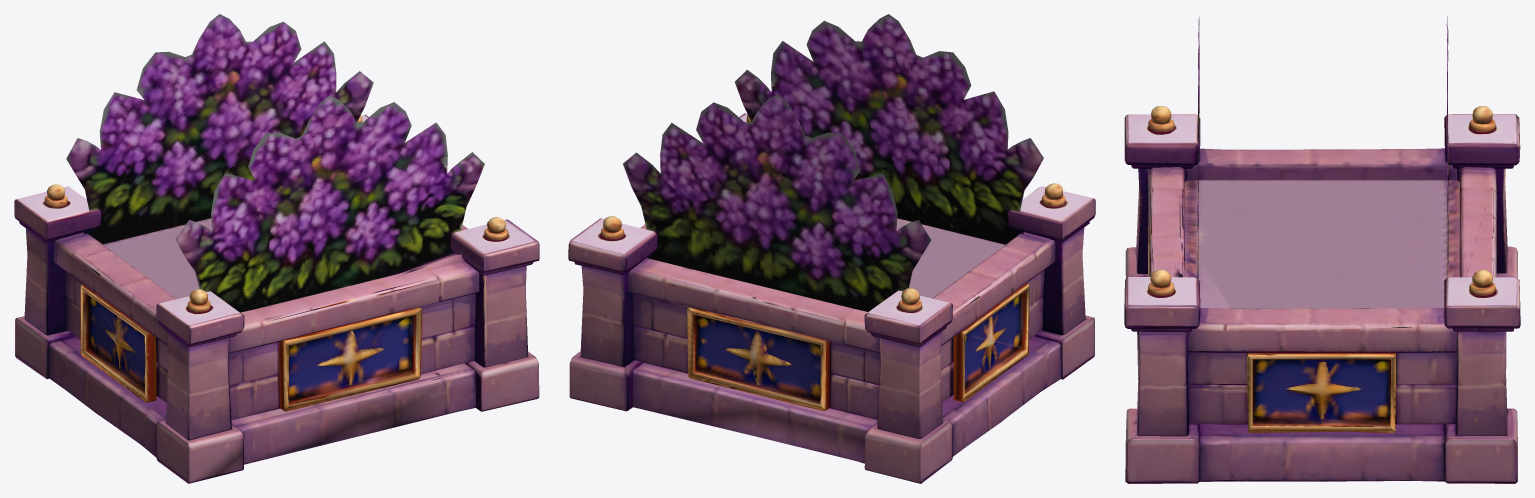
The model's file is planter.glb.
The picture shows the model from 3 angles, left to right: view 1: azimuth 30°, elevation 25°; view 2: azimuth 150°, elevation 25°; view 3: azimuth 270°, elevation 25°; orthographic projection. The views are drawn at different scales.
Parts seen in each view (by area): view 1: geometry_0; view 2: geometry_0; view 3: geometry_0.
Part boxes in pixels (x1,y1,x2,y2): geometry_0: [14, 14, 539, 483]; geometry_0: [568, 14, 1095, 483]; geometry_0: [1124, 16, 1520, 483].
Size of the model in its own units: 1 by 0.8871 by 0.8744.
1 material, 1 textured.
